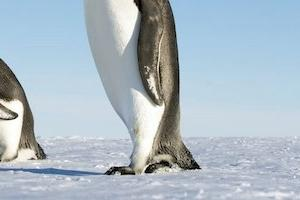Emperor Penguin: (39, 0, 206, 188), (0, 29, 62, 180)
